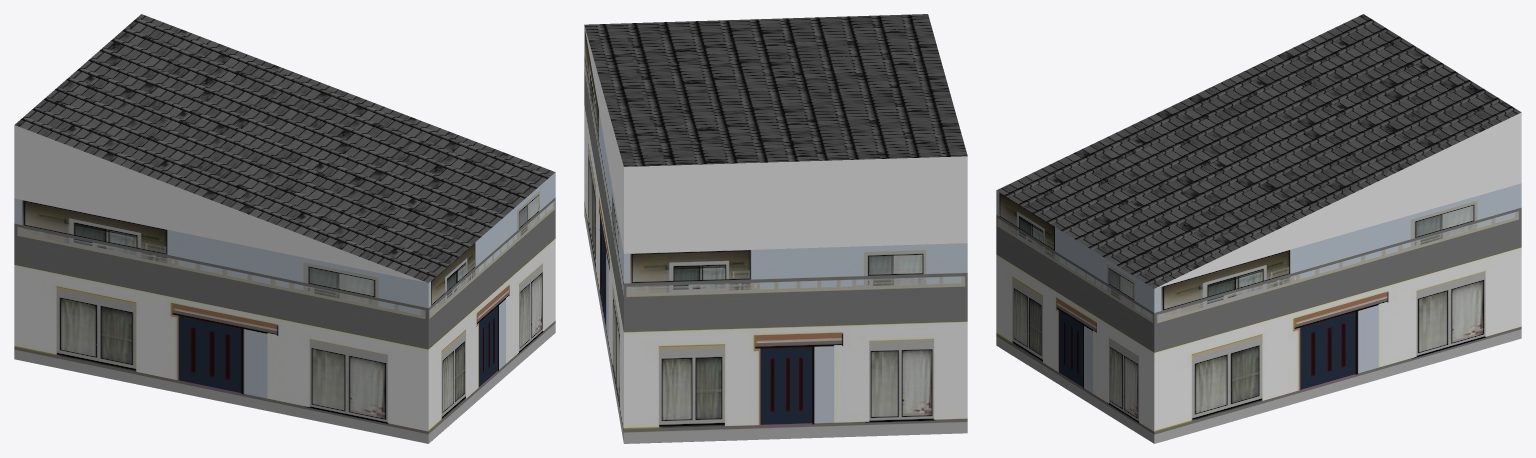
The picture shows the model from 3 angles, left to right: view 1: azimuth 30°, elevation 25°; view 2: azimuth 150°, elevation 25°; view 3: azimuth 270°, elevation 25°; orthographic projection. The views are drawn at different scales.
Visible parts, largest first — view 1: CityEngineMaterial_7_m, CityEngineMaterial_8_m, CityEngineMaterial_3_m; view 2: CityEngineMaterial_7_m, CityEngineMaterial_8_m, CityEngineMaterial_3_m; view 3: CityEngineMaterial_7_m, CityEngineMaterial_8_m, CityEngineMaterial_3_m.
Part boxes in pixels (box(x1,y1,x2,y2)): CityEngineMaterial_7_m: box(14, 172, 555, 443); CityEngineMaterial_8_m: box(15, 14, 555, 282); CityEngineMaterial_3_m: box(14, 125, 427, 282); CityEngineMaterial_7_m: box(584, 26, 967, 443); CityEngineMaterial_8_m: box(584, 14, 967, 166); CityEngineMaterial_3_m: box(584, 27, 967, 253); CityEngineMaterial_7_m: box(996, 183, 1521, 443); CityEngineMaterial_8_m: box(996, 14, 1521, 288); CityEngineMaterial_3_m: box(1155, 112, 1521, 288).
Bounding box in the file's own units: 19.3 × 9.99 × 21.03.
